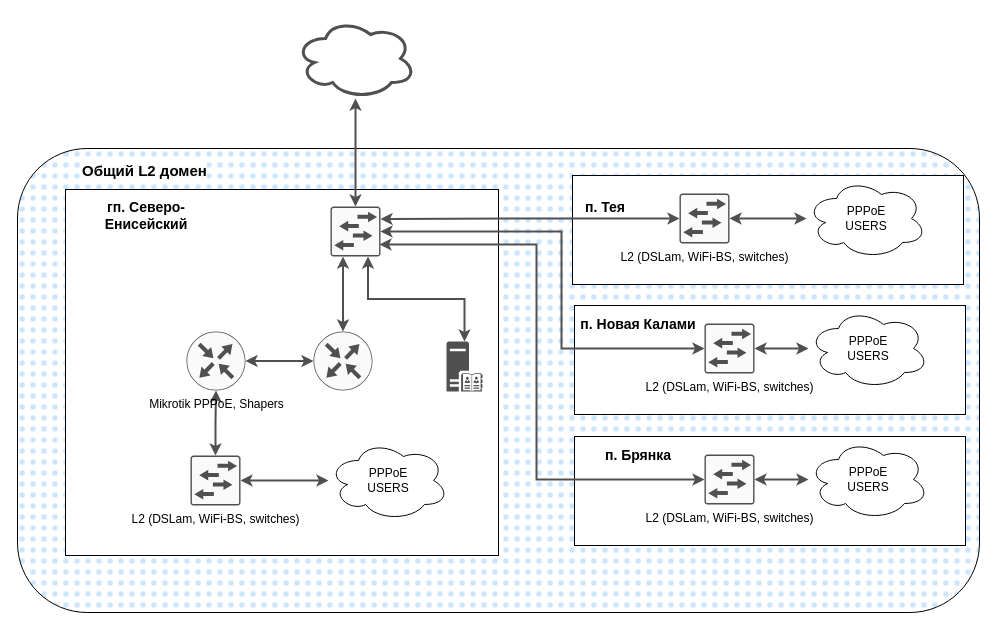
Image size: 997x630. Some labels were removed from this diagram. Each missing label, with the centre of its shape:
"Billing" belongs at [464,366].
"InterNet" belongs at [355,58].
"Mikrotik NAT" belongs at [342,360].
